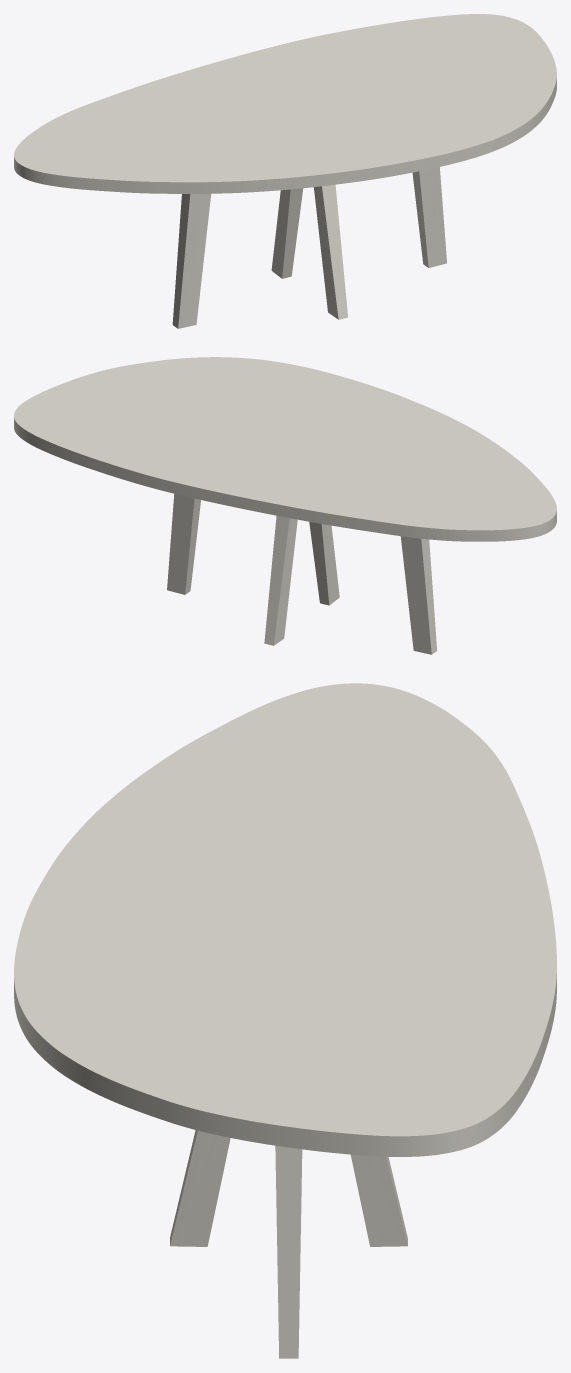
Rendered from pale_pebbletop_standard_searwalnut.glb.
3 views of the same model, one above another, from view 1: azimuth 30°, elevation 25°; view 2: azimuth 150°, elevation 25°; view 3: azimuth 270°, elevation 25° (orthographic). The views are drawn at different scales.
Visible parts, largest first — view 1: standard_pebbletop, searwalnut; view 2: standard_pebbletop, searwalnut; view 3: standard_pebbletop, searwalnut.
Part boxes in pixels (left/top/right/bottom): standard_pebbletop: left=14, top=14, right=556, bottom=193; searwalnut: left=172, top=167, right=446, bottom=328; standard_pebbletop: left=14, top=357, right=556, bottom=541; searwalnut: left=167, top=494, right=437, bottom=654; standard_pebbletop: left=14, top=683, right=556, bottom=1156; searwalnut: left=170, top=1130, right=407, bottom=1358.
Size of the model in its own units: 7.5 by 2.51 by 3.8.
1 material, 1 textured.
